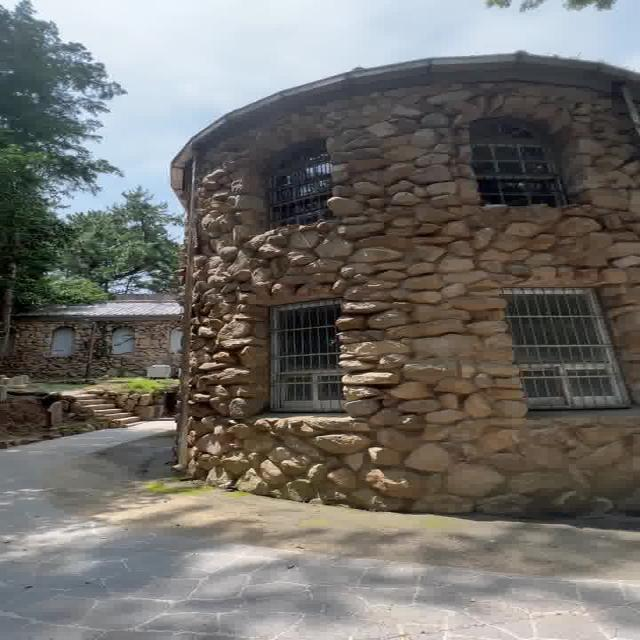building: (130, 45, 640, 502)
